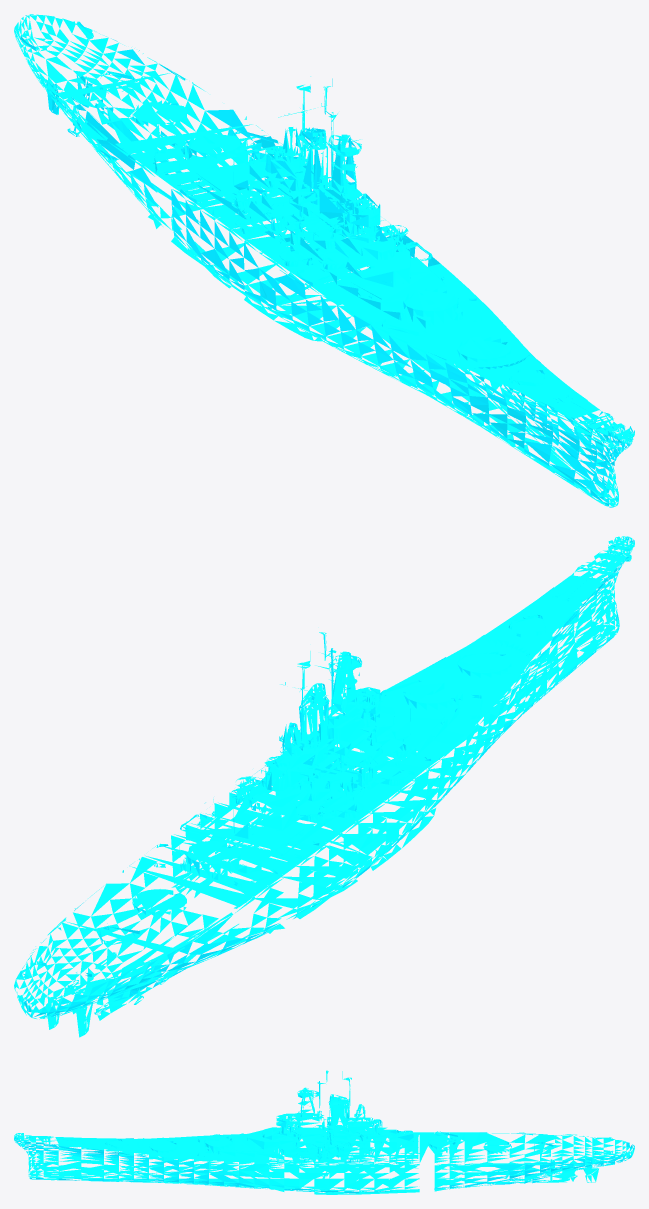
File: Maine.glb
3 views of the same model, one above another, from view 1: azimuth 30°, elevation 25°; view 2: azimuth 150°, elevation 25°; view 3: azimuth 270°, elevation 25° (orthographic). The views are drawn at different scales.
Size of the model in its own units: 2.61 by 4.31 by 20.98.
